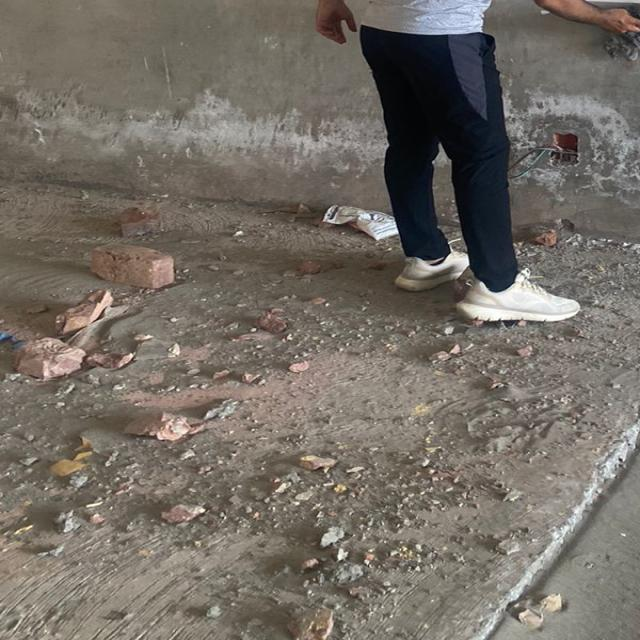Boot: (453, 268, 586, 326), (390, 248, 475, 292)
